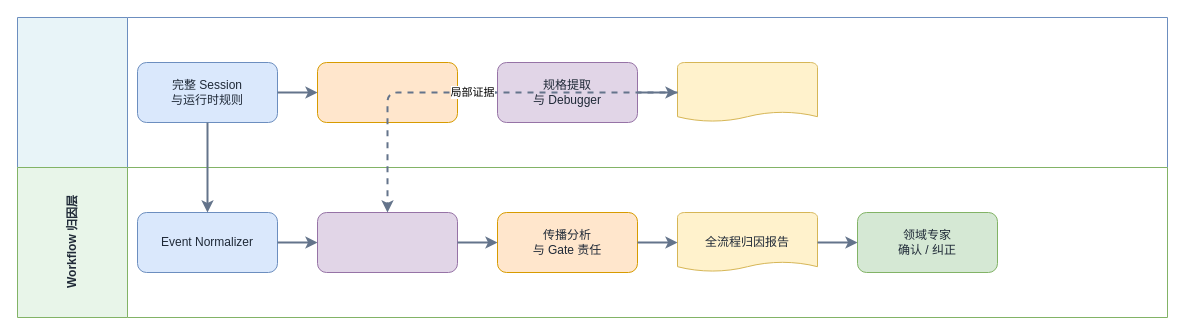
This 1185x335 diagram has some shape labels left out. Here are the shapes that lost their labels. From the top down, the box of each, then its label:
(316, 62, 458, 122): Skill 窗口切分
(16, 16, 1168, 168): Skill 评测层
(676, 62, 818, 122): 局部 Skill Finding
(316, 212, 458, 272): Action / Event / Artifact Graph
